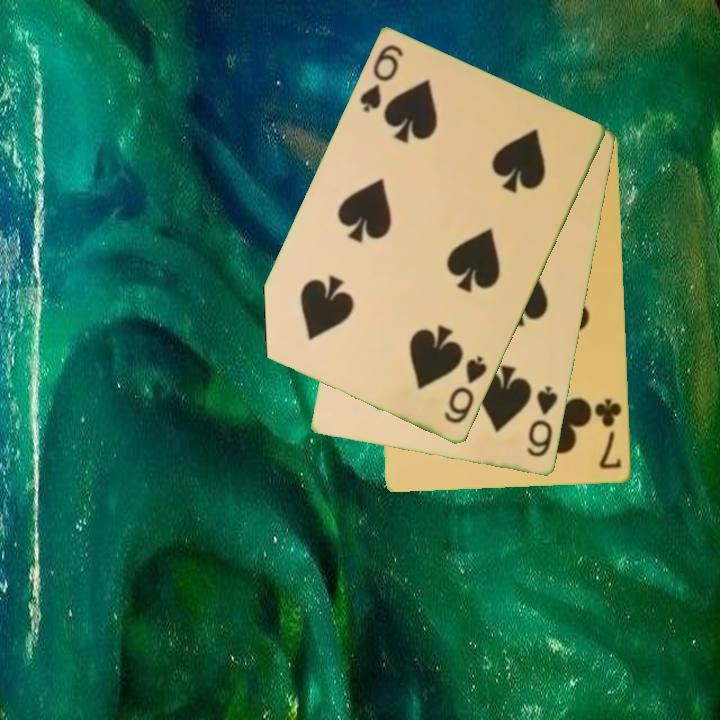6s: (440, 352, 490, 427), (356, 41, 406, 116), (524, 382, 561, 461)
7c: (591, 396, 625, 473)
